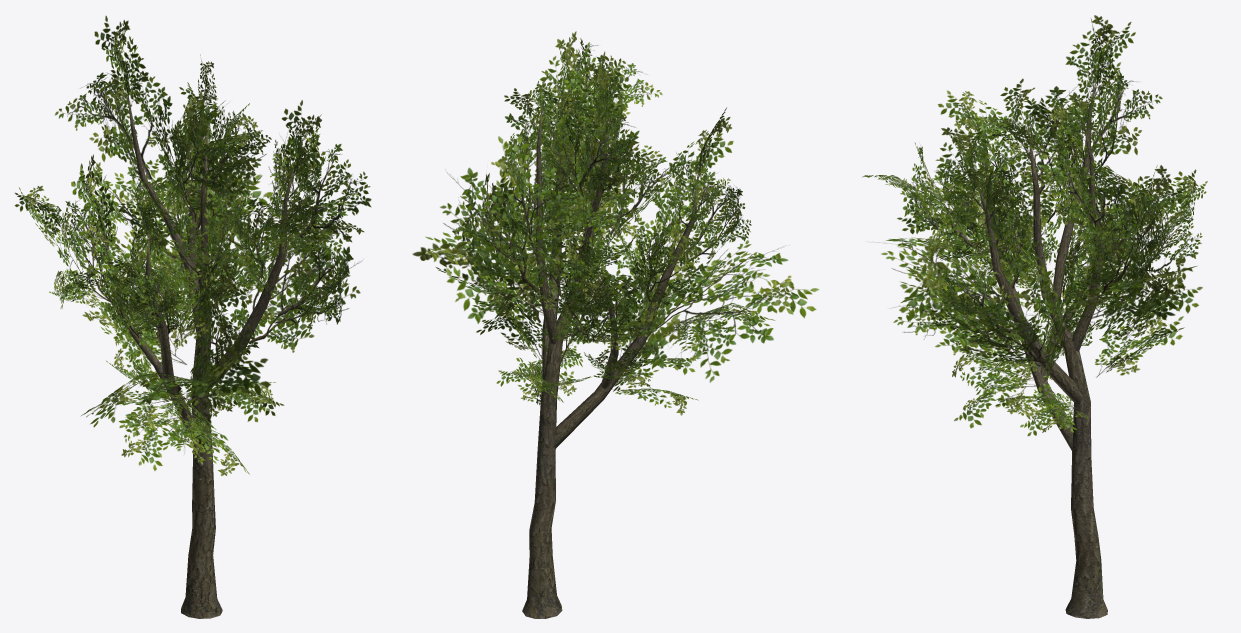
The model's file is tree1.glb.
3 views of the same model, side by side, from view 1: azimuth 30°, elevation 25°; view 2: azimuth 150°, elevation 25°; view 3: azimuth 270°, elevation 25° (orthographic). The views are drawn at different scales.
Parts seen in each view (by area): view 1: tree1; view 2: tree1; view 3: tree1.
Boxes of the visible parts, box(x1,y1,x2,y2) form: tree1: box(14, 16, 371, 618); tree1: box(412, 31, 819, 618); tree1: box(862, 15, 1207, 618).
Size of the model in its own units: 4.32 by 7.65 by 4.53.
Materials: 2 (2 with a texture image).
